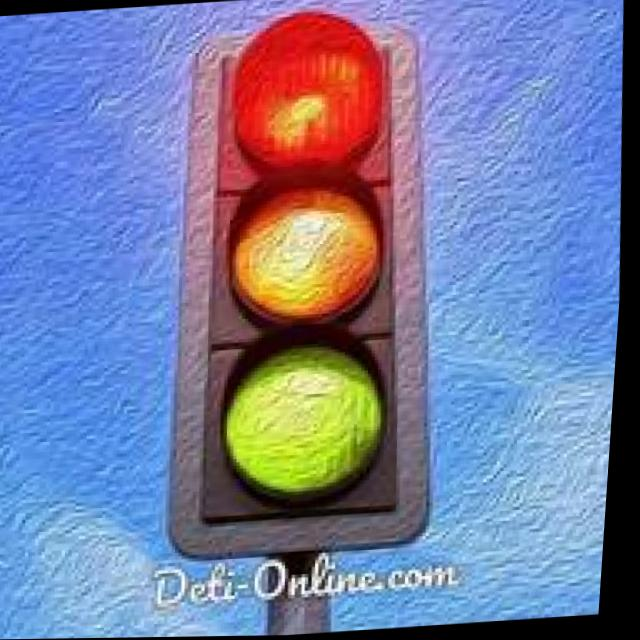green_light: (184, 322, 463, 536)
red_light: (231, 8, 397, 209)
yellow_light: (200, 177, 422, 336)
